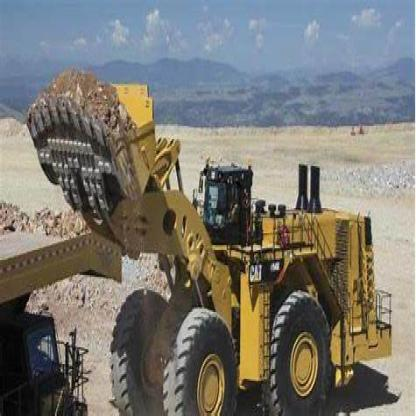bull_dozer/loader/grader: (21, 52, 391, 414)
